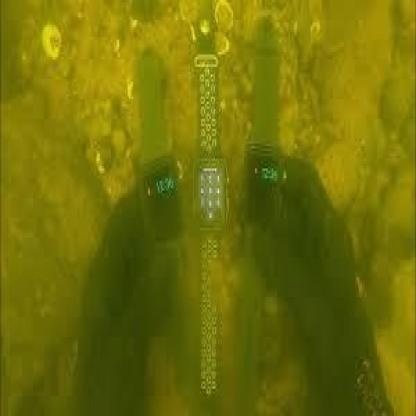electronics: (136, 47, 194, 401), (240, 22, 281, 401), (193, 5, 229, 396)
